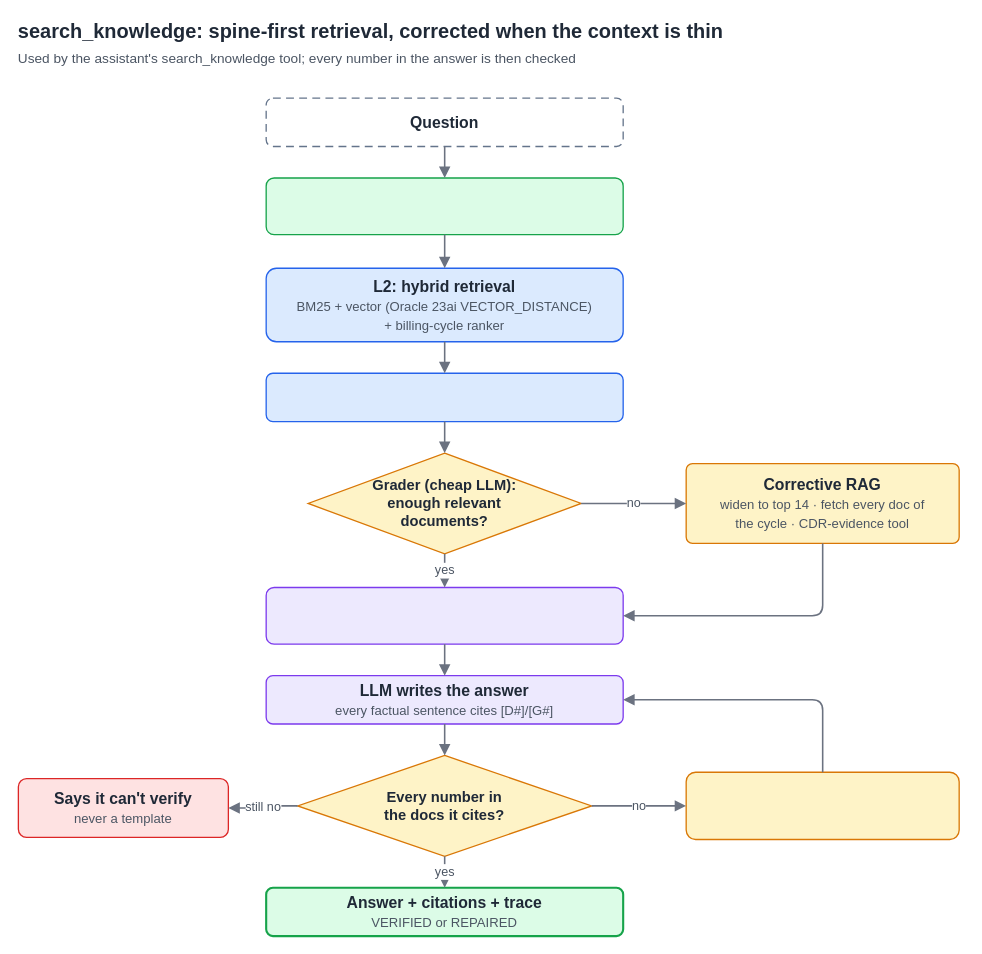
Some shapes in this 982 by 954 pixel diagram are drawn without their labels. The shapes that lost their labels are listed below. From the top down, each one's centre as x and y in pixels, then its label:
At (444,206): "L1: refresh the context spine content-hash upsert, one DB read if unchanged".
At (444,397): "Reciprocal Rank Fusion k = 60".
At (444,615): "Prompt rules + shared knowledge [G#], customer docs [D#]".
At (822,805): "Repair with the problems fed back up to 2x, tools allowed".
